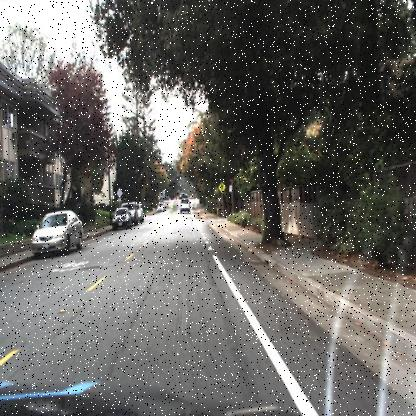car: (30, 209, 85, 255), (112, 206, 131, 228), (178, 195, 190, 217)
